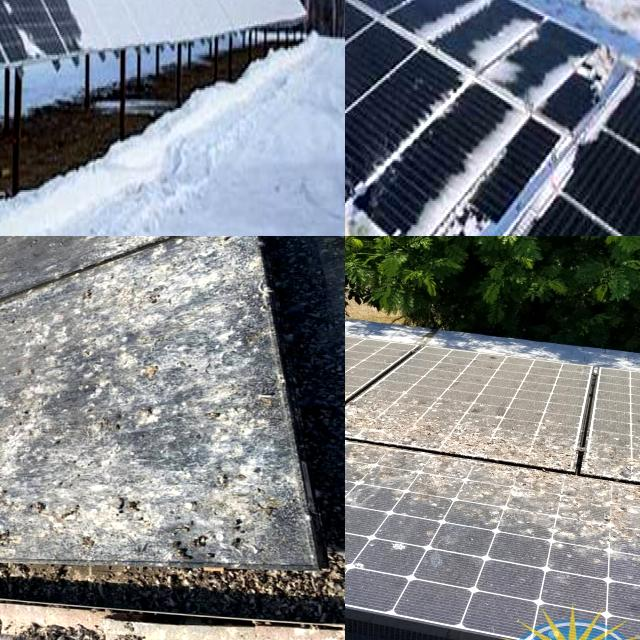bird: (0, 330, 56, 444), (345, 402, 463, 440), (403, 459, 479, 507), (518, 482, 593, 528), (476, 428, 576, 460), (0, 368, 44, 427), (345, 448, 394, 496), (0, 275, 28, 358), (345, 370, 394, 417), (368, 526, 428, 564), (150, 321, 199, 363), (55, 318, 101, 362), (289, 359, 345, 395), (592, 436, 640, 476), (614, 488, 640, 546), (166, 263, 200, 307), (345, 365, 378, 402), (0, 304, 37, 336), (0, 236, 47, 257), (0, 276, 28, 305), (624, 553, 640, 601), (0, 236, 28, 263), (0, 236, 35, 256), (345, 507, 371, 532), (0, 236, 30, 254), (0, 236, 35, 250), (343, 250, 345, 299)
panel: (389, 104, 511, 236), (1, 0, 123, 86), (541, 33, 629, 108), (0, 0, 67, 86), (466, 4, 530, 90), (135, 0, 223, 62), (221, 0, 305, 52), (418, 0, 490, 53), (0, 0, 44, 74), (71, 0, 124, 53), (0, 0, 53, 30), (0, 0, 51, 25), (0, 27, 24, 77)
